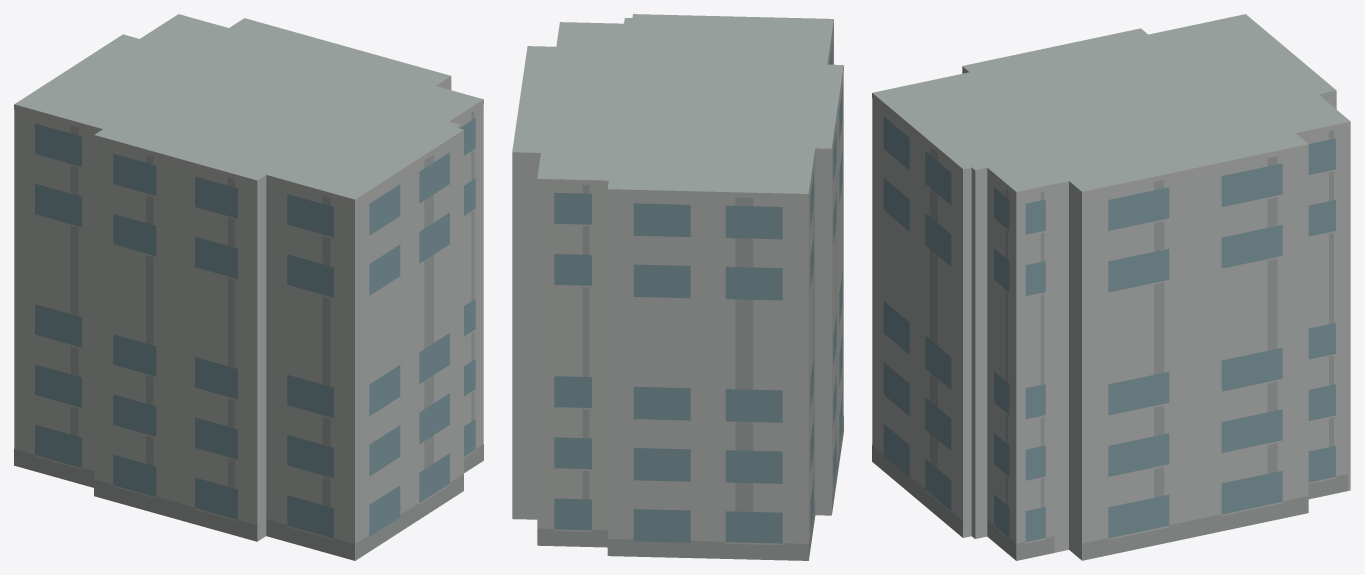
File: survey-upis-32739096.glb
The picture shows the model from 3 angles, left to right: view 1: azimuth 30°, elevation 25°; view 2: azimuth 150°, elevation 25°; view 3: azimuth 270°, elevation 25°; orthographic projection. The views are drawn at different scales.
Parts seen in each view (by area): view 1: survey-upis-32739096.tmp; view 2: survey-upis-32739096.tmp; view 3: survey-upis-32739096.tmp.
Part boxes in pixels (bbox=[...]): survey-upis-32739096.tmp: bbox=[14, 14, 483, 560]; survey-upis-32739096.tmp: bbox=[512, 14, 843, 560]; survey-upis-32739096.tmp: bbox=[872, 14, 1350, 560].
Size of the model in its own units: 17.4 by 16.8 by 19.77.
